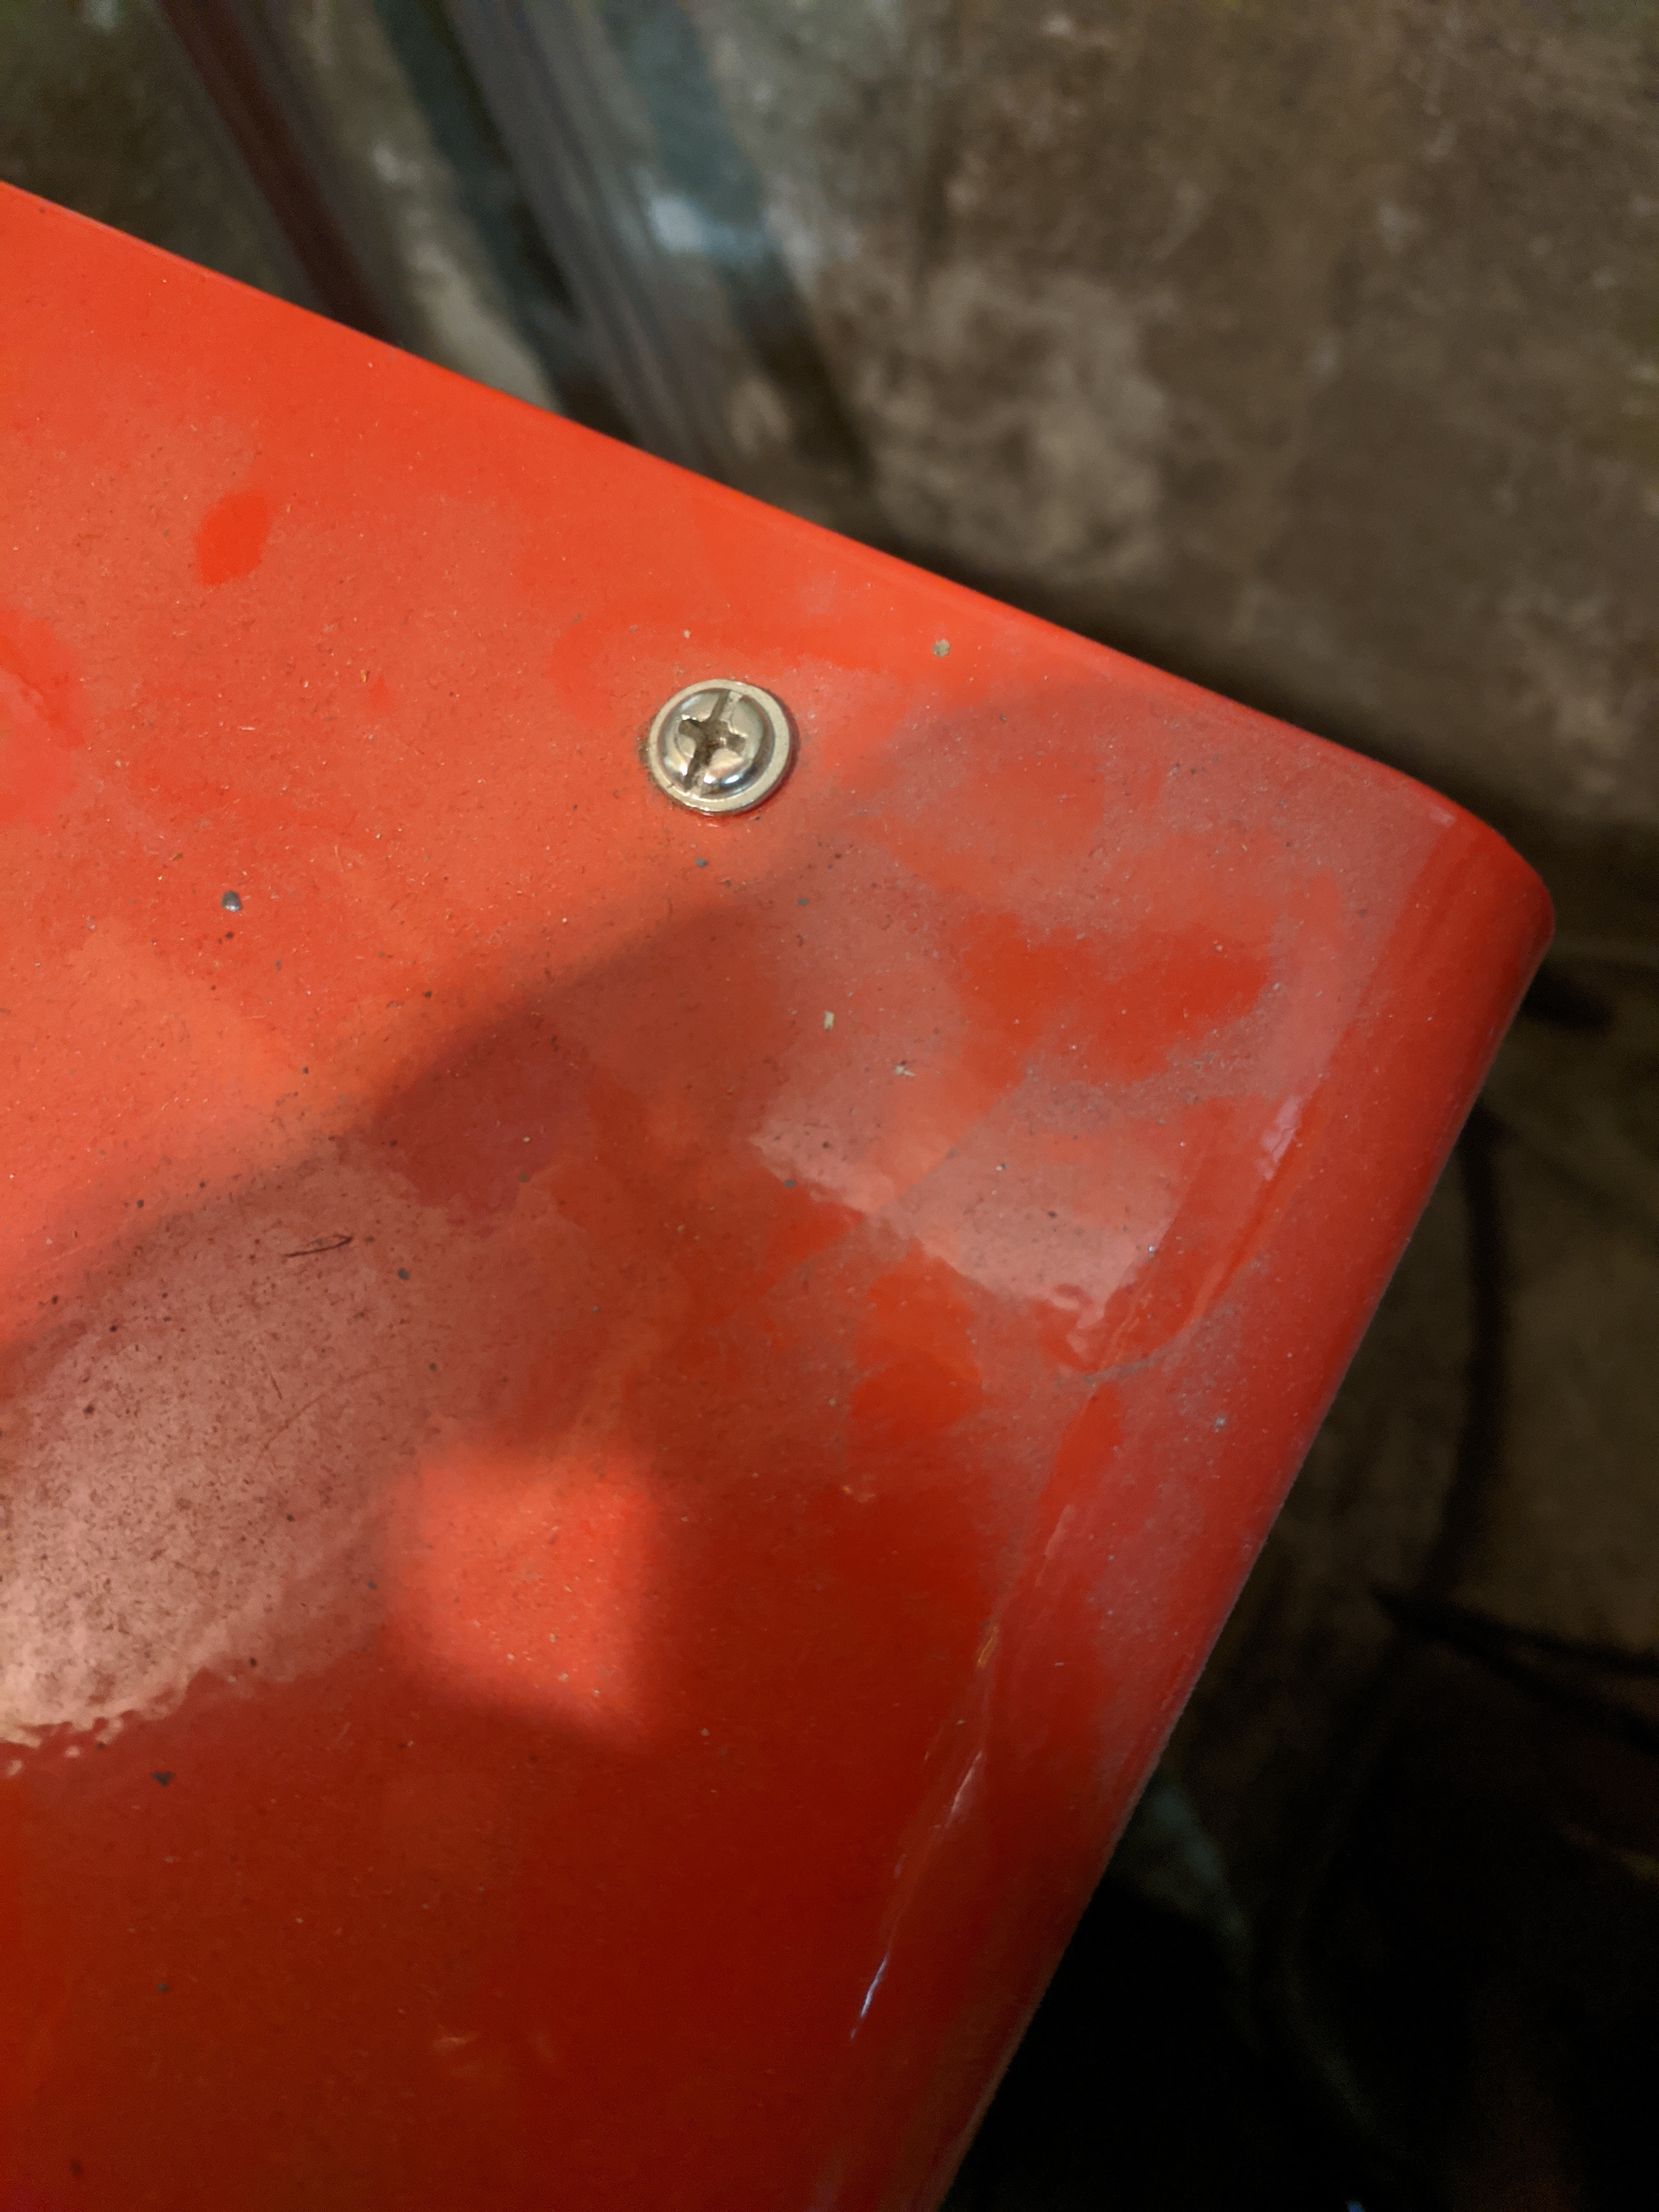cross_recessed_screw: (633, 660, 788, 812)
